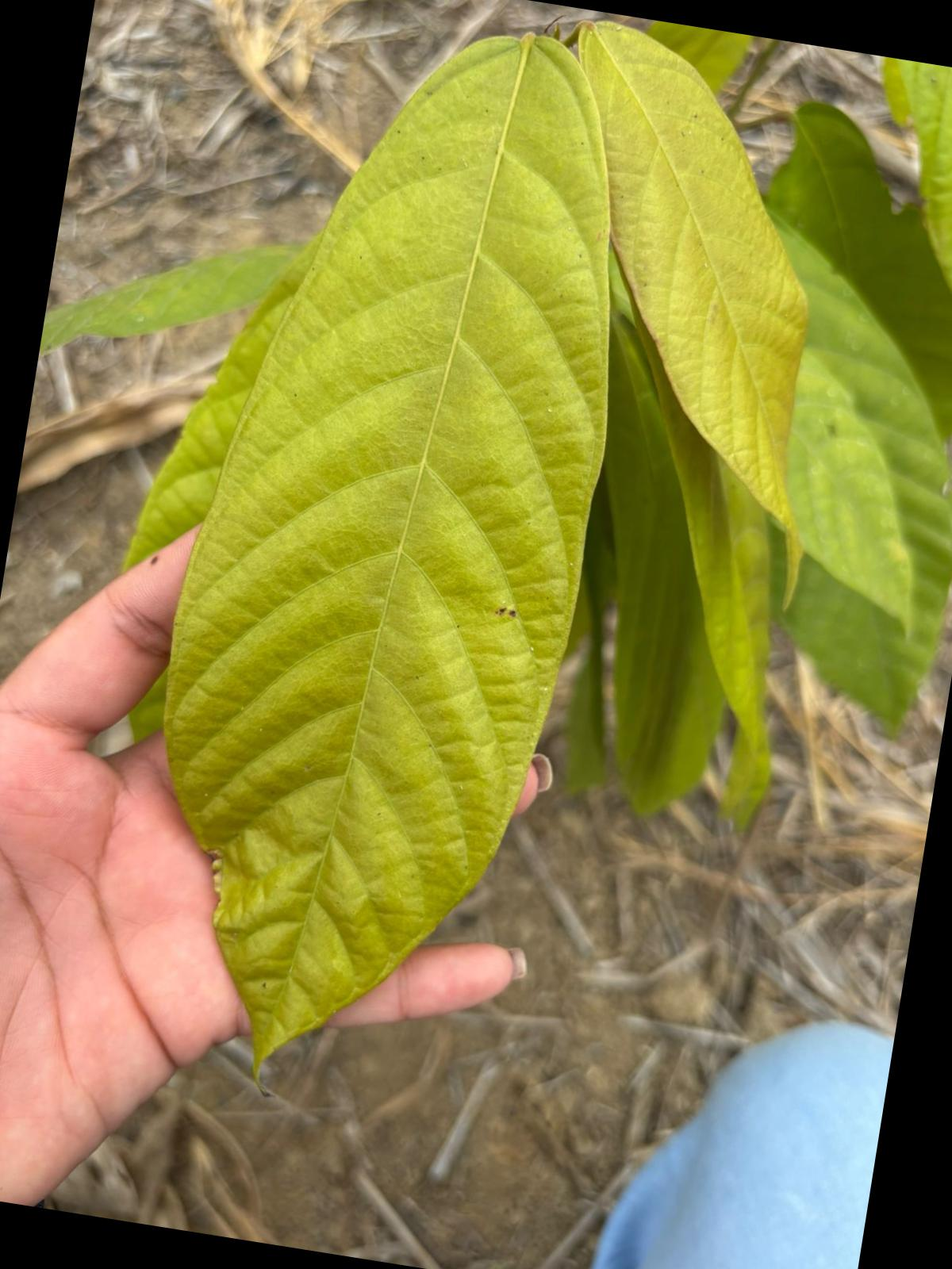Nitrogeno: (164, 35, 608, 1058), (578, 23, 806, 586)
